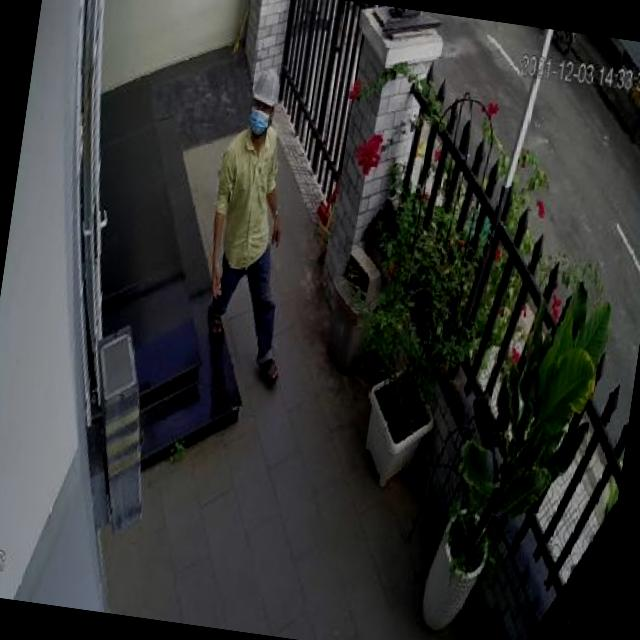Person: (190, 62, 320, 386)
